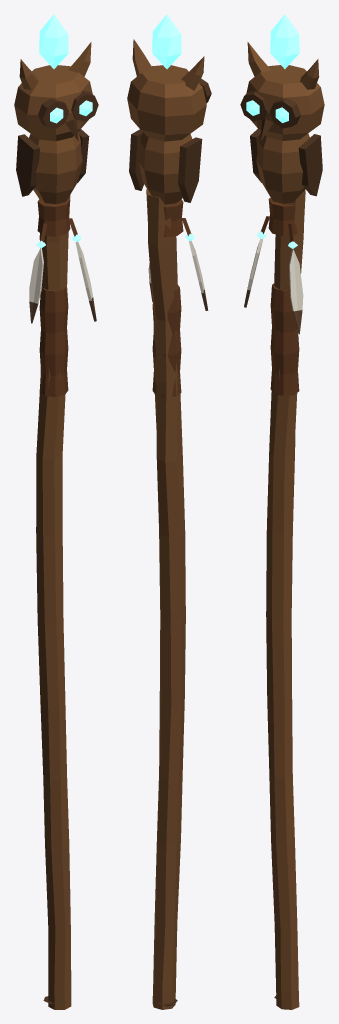
The model's file is W2_TotemStaff.fbx.
3 renders of one model, left to right at view 1: azimuth 30°, elevation 25°; view 2: azimuth 150°, elevation 25°; view 3: azimuth 330°, elevation 25°, orthographic.
Parts seen in each view (by area): view 1: W2_TotemStaff; view 2: W2_TotemStaff; view 3: W2_TotemStaff.
Boxes of the visible parts, x1=… form: W2_TotemStaff: x1=14, y1=14, x2=98, y2=1009; W2_TotemStaff: x1=127, y1=14, x2=211, y2=1009; W2_TotemStaff: x1=240, y1=14, x2=324, y2=1009.
Bounding box in the file's own units: 12 × 161 × 11.82.
